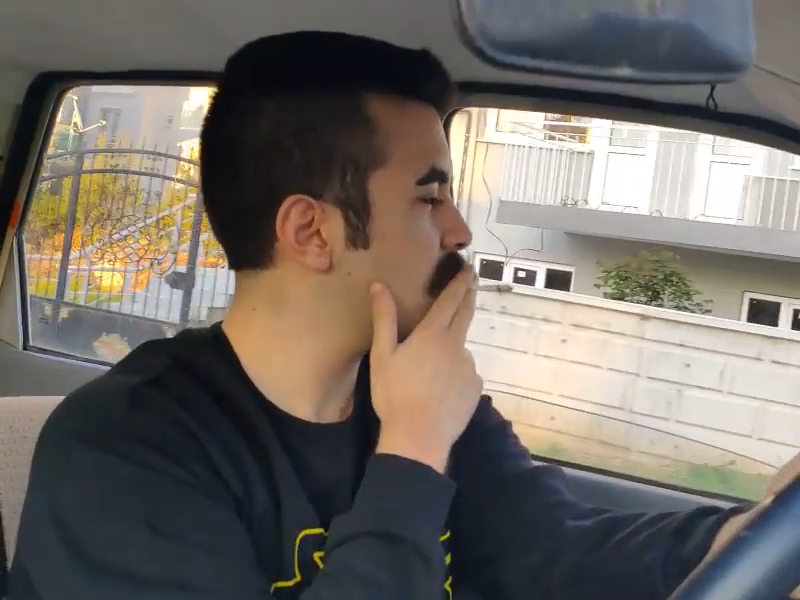sigara: (459, 276, 518, 298)
